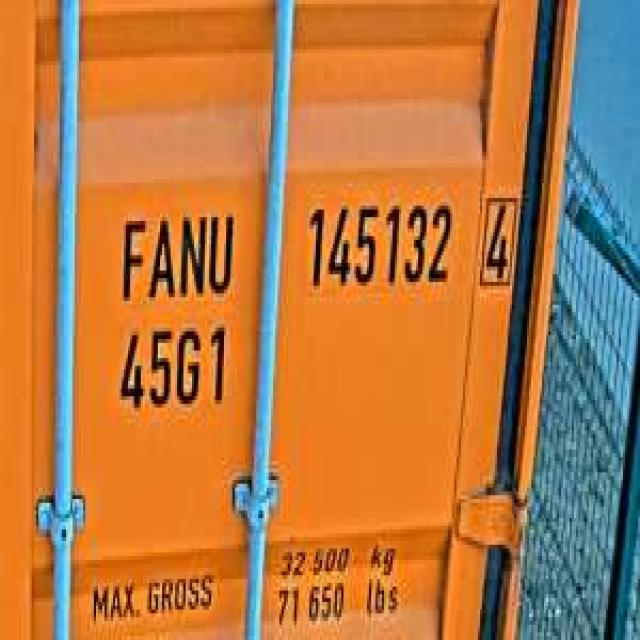dv: (476, 179, 520, 293)
owner: (113, 198, 237, 305)
serial: (301, 190, 454, 294)
size: (113, 312, 235, 419)
